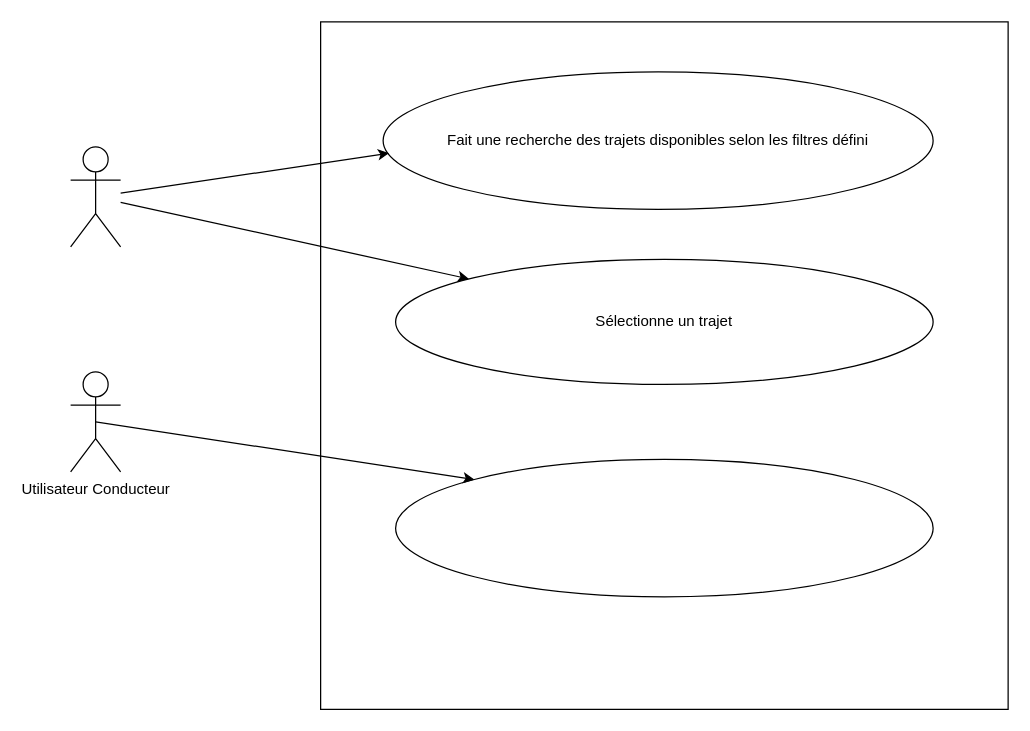
The diagram is 1030 pixels wide and 731 high, and some of its shapes have lost their labels. The shapes that lost their labels are listed below. From the top down, each one's box as (x1, y1, x2, y2) in pixels, then its label:
(69, 146, 121, 247): Utilisateur passager
(394, 458, 933, 597): Accepte la demande de prise en charge pour le trajets
